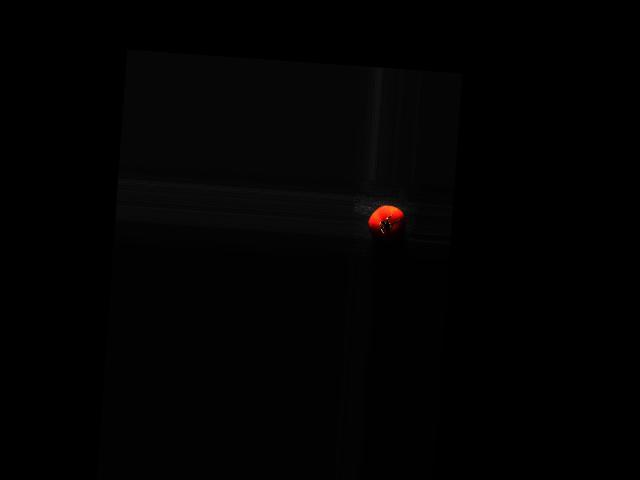tomato: (367, 204, 406, 243)
